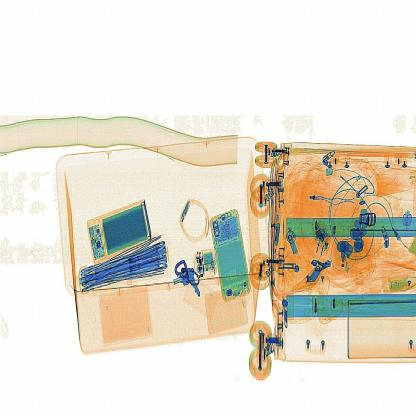pliers: (292, 255, 336, 307)
